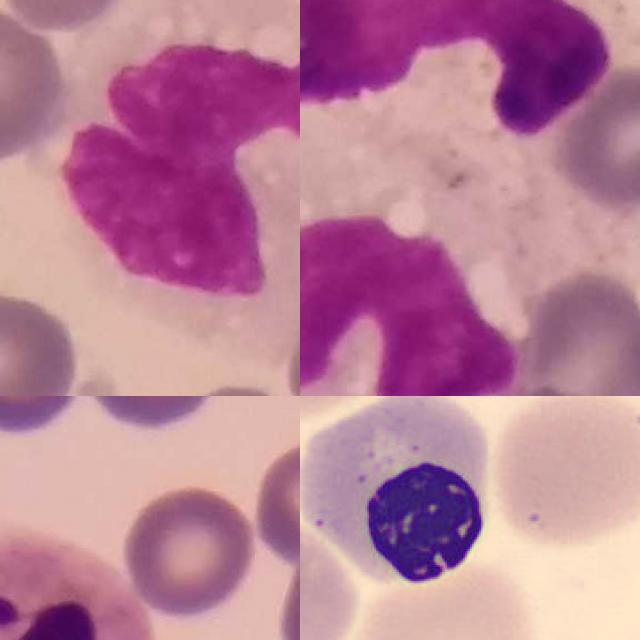Lymphocyte: (300, 396, 502, 595)
Monocyte: (49, 0, 300, 349), (300, 165, 536, 396), (300, 0, 628, 155)
Neutrophil: (0, 524, 154, 640)
RBC: (486, 396, 640, 551), (336, 549, 541, 640), (300, 517, 362, 640)
